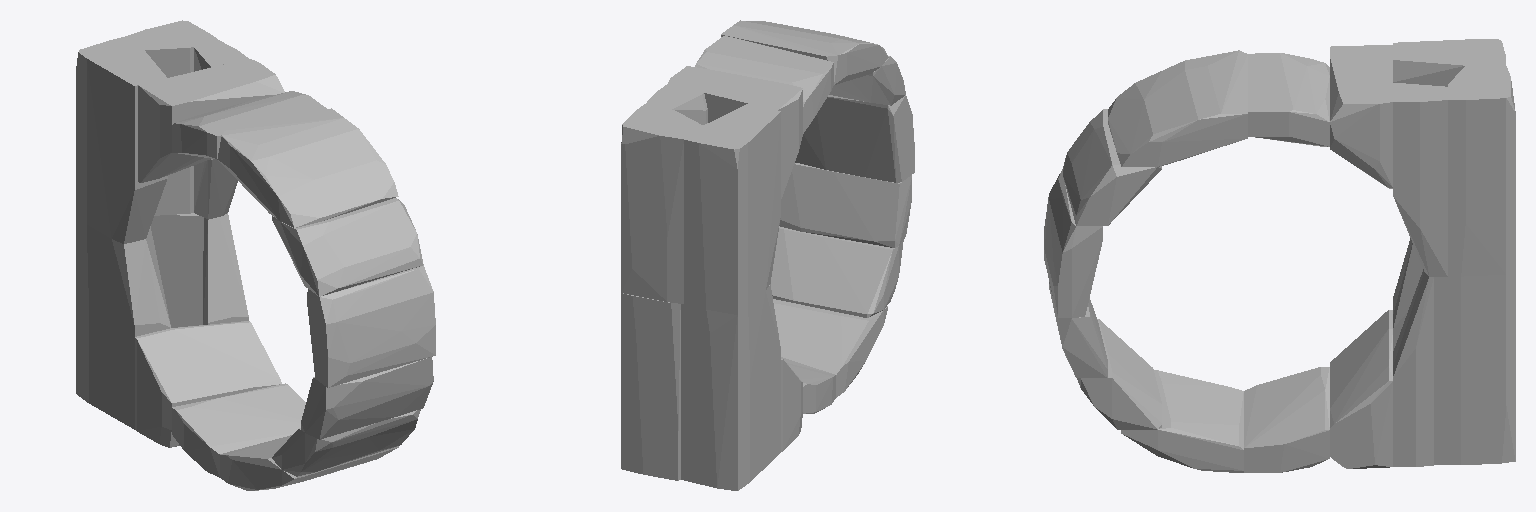
robot.urdf — root:
<robot name="root">
  <link name="link_thingiverse~ring_mount_2543826_convex_piece_0">
    <inertial>
      <origin rpy="0 0 0" xyz="0 0 0"/>
      <mass value="1.09E-02"/>
      <inertia ixx="9.58E-06" ixy="-3.31E-08" ixz="2.25E-07" iyy="9.99E-06" iyz="-8.15E-07" izz="7.94E-07"/>
    </inertial>
    <visual>
      <origin rpy="0 0 0" xyz="0 0 0"/>
      <geometry>
        <mesh filename="thingiverse~ring_mount_2543826_convex_piece_0.obj" scale="1.0000E+00 1.0000E+00 1.0000E+00"/>
      </geometry>
      <material name="">
        <color rgba="7.50E-01 7.50E-01 7.50E-01 1"/>
      </material>
    </visual>
    <collision>
      <origin rpy="0 0 0" xyz="0 0 0"/>
      <geometry>
        <mesh filename="thingiverse~ring_mount_2543826_convex_piece_0.obj" scale="1.0000E+00 1.0000E+00 1.0000E+00"/>
      </geometry>
    </collision>
  </link>
  <link name="link_thingiverse~ring_mount_2543826_convex_piece_1">
    <inertial>
      <origin rpy="0 0 0" xyz="0 0 0"/>
      <mass value="1.13E-02"/>
      <inertia ixx="9.87E-06" ixy="-2.12E-08" ixz="-1.22E-07" iyy="1.03E-05" iyz="8.04E-07" izz="7.99E-07"/>
    </inertial>
    <visual>
      <origin rpy="0 0 0" xyz="0 0 0"/>
      <geometry>
        <mesh filename="thingiverse~ring_mount_2543826_convex_piece_1.obj" scale="1.0000E+00 1.0000E+00 1.0000E+00"/>
      </geometry>
      <material name="">
        <color rgba="7.50E-01 7.50E-01 7.50E-01 1"/>
      </material>
    </visual>
    <collision>
      <origin rpy="0 0 0" xyz="0 0 0"/>
      <geometry>
        <mesh filename="thingiverse~ring_mount_2543826_convex_piece_1.obj" scale="1.0000E+00 1.0000E+00 1.0000E+00"/>
      </geometry>
    </collision>
  </link>
  <joint name="link_thingiverse~ring_mount_2543826_convex_piece_1_joint" type="fixed">
    <origin rpy="0 0 0" xyz="0 0 0"/>
    <parent link="link_thingiverse~ring_mount_2543826_convex_piece_0"/>
    <child link="link_thingiverse~ring_mount_2543826_convex_piece_1"/>
  </joint>
  <link name="link_thingiverse~ring_mount_2543826_convex_piece_2">
    <inertial>
      <origin rpy="0 0 0" xyz="0 0 0"/>
      <mass value="8.89E-03"/>
      <inertia ixx="1.70E-05" ixy="-7.57E-07" ixz="-7.78E-07" iyy="9.35E-06" iyz="8.23E-06" izz="8.81E-06"/>
    </inertial>
    <visual>
      <origin rpy="0 0 0" xyz="0 0 0"/>
      <geometry>
        <mesh filename="thingiverse~ring_mount_2543826_convex_piece_2.obj" scale="1.0000E+00 1.0000E+00 1.0000E+00"/>
      </geometry>
      <material name="">
        <color rgba="7.50E-01 7.50E-01 7.50E-01 1"/>
      </material>
    </visual>
    <collision>
      <origin rpy="0 0 0" xyz="0 0 0"/>
      <geometry>
        <mesh filename="thingiverse~ring_mount_2543826_convex_piece_2.obj" scale="1.0000E+00 1.0000E+00 1.0000E+00"/>
      </geometry>
    </collision>
  </link>
  <joint name="link_thingiverse~ring_mount_2543826_convex_piece_2_joint" type="fixed">
    <origin rpy="0 0 0" xyz="0 0 0"/>
    <parent link="link_thingiverse~ring_mount_2543826_convex_piece_1"/>
    <child link="link_thingiverse~ring_mount_2543826_convex_piece_2"/>
  </joint>
  <link name="link_thingiverse~ring_mount_2543826_convex_piece_3">
    <inertial>
      <origin rpy="0 0 0" xyz="0 0 0"/>
      <mass value="6.63E-03"/>
      <inertia ixx="8.07E-06" ixy="-8.87E-08" ixz="-2.40E-07" iyy="7.46E-06" iyz="2.47E-06" izz="1.34E-06"/>
    </inertial>
    <visual>
      <origin rpy="0 0 0" xyz="0 0 0"/>
      <geometry>
        <mesh filename="thingiverse~ring_mount_2543826_convex_piece_3.obj" scale="1.0000E+00 1.0000E+00 1.0000E+00"/>
      </geometry>
      <material name="">
        <color rgba="7.50E-01 7.50E-01 7.50E-01 1"/>
      </material>
    </visual>
    <collision>
      <origin rpy="0 0 0" xyz="0 0 0"/>
      <geometry>
        <mesh filename="thingiverse~ring_mount_2543826_convex_piece_3.obj" scale="1.0000E+00 1.0000E+00 1.0000E+00"/>
      </geometry>
    </collision>
  </link>
  <joint name="link_thingiverse~ring_mount_2543826_convex_piece_3_joint" type="fixed">
    <origin rpy="0 0 0" xyz="0 0 0"/>
    <parent link="link_thingiverse~ring_mount_2543826_convex_piece_2"/>
    <child link="link_thingiverse~ring_mount_2543826_convex_piece_3"/>
  </joint>
  <link name="link_thingiverse~ring_mount_2543826_convex_piece_4">
    <inertial>
      <origin rpy="0 0 0" xyz="0 0 0"/>
      <mass value="6.23E-03"/>
      <inertia ixx="1.48E-05" ixy="-1.17E-06" ixz="-5.87E-07" iyy="3.43E-06" iyz="5.81E-06" izz="1.23E-05"/>
    </inertial>
    <visual>
      <origin rpy="0 0 0" xyz="0 0 0"/>
      <geometry>
        <mesh filename="thingiverse~ring_mount_2543826_convex_piece_4.obj" scale="1.0000E+00 1.0000E+00 1.0000E+00"/>
      </geometry>
      <material name="">
        <color rgba="7.50E-01 7.50E-01 7.50E-01 1"/>
      </material>
    </visual>
    <collision>
      <origin rpy="0 0 0" xyz="0 0 0"/>
      <geometry>
        <mesh filename="thingiverse~ring_mount_2543826_convex_piece_4.obj" scale="1.0000E+00 1.0000E+00 1.0000E+00"/>
      </geometry>
    </collision>
  </link>
  <joint name="link_thingiverse~ring_mount_2543826_convex_piece_4_joint" type="fixed">
    <origin rpy="0 0 0" xyz="0 0 0"/>
    <parent link="link_thingiverse~ring_mount_2543826_convex_piece_3"/>
    <child link="link_thingiverse~ring_mount_2543826_convex_piece_4"/>
  </joint>
  <link name="link_thingiverse~ring_mount_2543826_convex_piece_5">
    <inertial>
      <origin rpy="0 0 0" xyz="0 0 0"/>
      <mass value="5.40E-03"/>
      <inertia ixx="1.41E-05" ixy="-1.39E-06" ixz="-2.78E-07" iyy="1.03E-06" iyz="2.66E-06" izz="1.39E-05"/>
    </inertial>
    <visual>
      <origin rpy="0 0 0" xyz="0 0 0"/>
      <geometry>
        <mesh filename="thingiverse~ring_mount_2543826_convex_piece_5.obj" scale="1.0000E+00 1.0000E+00 1.0000E+00"/>
      </geometry>
      <material name="">
        <color rgba="7.50E-01 7.50E-01 7.50E-01 1"/>
      </material>
    </visual>
    <collision>
      <origin rpy="0 0 0" xyz="0 0 0"/>
      <geometry>
        <mesh filename="thingiverse~ring_mount_2543826_convex_piece_5.obj" scale="1.0000E+00 1.0000E+00 1.0000E+00"/>
      </geometry>
    </collision>
  </link>
  <joint name="link_thingiverse~ring_mount_2543826_convex_piece_5_joint" type="fixed">
    <origin rpy="0 0 0" xyz="0 0 0"/>
    <parent link="link_thingiverse~ring_mount_2543826_convex_piece_4"/>
    <child link="link_thingiverse~ring_mount_2543826_convex_piece_5"/>
  </joint>
  <link name="link_thingiverse~ring_mount_2543826_convex_piece_6">
    <inertial>
      <origin rpy="0 0 0" xyz="0 0 0"/>
      <mass value="8.13E-03"/>
      <inertia ixx="2.13E-05" ixy="-2.13E-06" ixz="2.38E-07" iyy="1.11E-06" iyz="-2.25E-06" izz="2.15E-05"/>
    </inertial>
    <visual>
      <origin rpy="0 0 0" xyz="0 0 0"/>
      <geometry>
        <mesh filename="thingiverse~ring_mount_2543826_convex_piece_6.obj" scale="1.0000E+00 1.0000E+00 1.0000E+00"/>
      </geometry>
      <material name="">
        <color rgba="7.50E-01 7.50E-01 7.50E-01 1"/>
      </material>
    </visual>
    <collision>
      <origin rpy="0 0 0" xyz="0 0 0"/>
      <geometry>
        <mesh filename="thingiverse~ring_mount_2543826_convex_piece_6.obj" scale="1.0000E+00 1.0000E+00 1.0000E+00"/>
      </geometry>
    </collision>
  </link>
  <joint name="link_thingiverse~ring_mount_2543826_convex_piece_6_joint" type="fixed">
    <origin rpy="0 0 0" xyz="0 0 0"/>
    <parent link="link_thingiverse~ring_mount_2543826_convex_piece_5"/>
    <child link="link_thingiverse~ring_mount_2543826_convex_piece_6"/>
  </joint>
  <link name="link_thingiverse~ring_mount_2543826_convex_piece_7">
    <inertial>
      <origin rpy="0 0 0" xyz="0 0 0"/>
      <mass value="6.59E-03"/>
      <inertia ixx="1.57E-05" ixy="-1.30E-06" ixz="6.17E-07" iyy="3.35E-06" iyz="-5.92E-06" izz="1.33E-05"/>
    </inertial>
    <visual>
      <origin rpy="0 0 0" xyz="0 0 0"/>
      <geometry>
        <mesh filename="thingiverse~ring_mount_2543826_convex_piece_7.obj" scale="1.0000E+00 1.0000E+00 1.0000E+00"/>
      </geometry>
      <material name="">
        <color rgba="7.50E-01 7.50E-01 7.50E-01 1"/>
      </material>
    </visual>
    <collision>
      <origin rpy="0 0 0" xyz="0 0 0"/>
      <geometry>
        <mesh filename="thingiverse~ring_mount_2543826_convex_piece_7.obj" scale="1.0000E+00 1.0000E+00 1.0000E+00"/>
      </geometry>
    </collision>
  </link>
  <joint name="link_thingiverse~ring_mount_2543826_convex_piece_7_joint" type="fixed">
    <origin rpy="0 0 0" xyz="0 0 0"/>
    <parent link="link_thingiverse~ring_mount_2543826_convex_piece_6"/>
    <child link="link_thingiverse~ring_mount_2543826_convex_piece_7"/>
  </joint>
  <link name="link_thingiverse~ring_mount_2543826_convex_piece_8">
    <inertial>
      <origin rpy="0 0 0" xyz="0 0 0"/>
      <mass value="9.67E-03"/>
      <inertia ixx="1.82E-05" ixy="-8.16E-07" ixz="8.25E-07" iyy="9.94E-06" iyz="-8.77E-06" izz="9.49E-06"/>
    </inertial>
    <visual>
      <origin rpy="0 0 0" xyz="0 0 0"/>
      <geometry>
        <mesh filename="thingiverse~ring_mount_2543826_convex_piece_8.obj" scale="1.0000E+00 1.0000E+00 1.0000E+00"/>
      </geometry>
      <material name="">
        <color rgba="7.50E-01 7.50E-01 7.50E-01 1"/>
      </material>
    </visual>
    <collision>
      <origin rpy="0 0 0" xyz="0 0 0"/>
      <geometry>
        <mesh filename="thingiverse~ring_mount_2543826_convex_piece_8.obj" scale="1.0000E+00 1.0000E+00 1.0000E+00"/>
      </geometry>
    </collision>
  </link>
  <joint name="link_thingiverse~ring_mount_2543826_convex_piece_8_joint" type="fixed">
    <origin rpy="0 0 0" xyz="0 0 0"/>
    <parent link="link_thingiverse~ring_mount_2543826_convex_piece_7"/>
    <child link="link_thingiverse~ring_mount_2543826_convex_piece_8"/>
  </joint>
  <link name="link_thingiverse~ring_mount_2543826_convex_piece_9">
    <inertial>
      <origin rpy="0 0 0" xyz="0 0 0"/>
      <mass value="6.31E-03"/>
      <inertia ixx="7.39E-06" ixy="-8.13E-08" ixz="2.23E-07" iyy="6.89E-06" iyz="-2.22E-06" izz="1.20E-06"/>
    </inertial>
    <visual>
      <origin rpy="0 0 0" xyz="0 0 0"/>
      <geometry>
        <mesh filename="thingiverse~ring_mount_2543826_convex_piece_9.obj" scale="1.0000E+00 1.0000E+00 1.0000E+00"/>
      </geometry>
      <material name="">
        <color rgba="7.50E-01 7.50E-01 7.50E-01 1"/>
      </material>
    </visual>
    <collision>
      <origin rpy="0 0 0" xyz="0 0 0"/>
      <geometry>
        <mesh filename="thingiverse~ring_mount_2543826_convex_piece_9.obj" scale="1.0000E+00 1.0000E+00 1.0000E+00"/>
      </geometry>
    </collision>
  </link>
  <joint name="link_thingiverse~ring_mount_2543826_convex_piece_9_joint" type="fixed">
    <origin rpy="0 0 0" xyz="0 0 0"/>
    <parent link="link_thingiverse~ring_mount_2543826_convex_piece_8"/>
    <child link="link_thingiverse~ring_mount_2543826_convex_piece_9"/>
  </joint>
  <link name="link_thingiverse~ring_mount_2543826_convex_piece_10">
    <inertial>
      <origin rpy="0 0 0" xyz="0 0 0"/>
      <mass value="2.07E-02"/>
      <inertia ixx="1.76E-05" ixy="-3.68E-06" ixz="3.55E-06" iyy="1.14E-05" iyz="-7.14E-06" izz="1.02E-05"/>
    </inertial>
    <visual>
      <origin rpy="0 0 0" xyz="0 0 0"/>
      <geometry>
        <mesh filename="thingiverse~ring_mount_2543826_convex_piece_10.obj" scale="1.0000E+00 1.0000E+00 1.0000E+00"/>
      </geometry>
      <material name="">
        <color rgba="7.50E-01 7.50E-01 7.50E-01 1"/>
      </material>
    </visual>
    <collision>
      <origin rpy="0 0 0" xyz="0 0 0"/>
      <geometry>
        <mesh filename="thingiverse~ring_mount_2543826_convex_piece_10.obj" scale="1.0000E+00 1.0000E+00 1.0000E+00"/>
      </geometry>
    </collision>
  </link>
  <joint name="link_thingiverse~ring_mount_2543826_convex_piece_10_joint" type="fixed">
    <origin rpy="0 0 0" xyz="0 0 0"/>
    <parent link="link_thingiverse~ring_mount_2543826_convex_piece_9"/>
    <child link="link_thingiverse~ring_mount_2543826_convex_piece_10"/>
  </joint>
  <link name="link_thingiverse~ring_mount_2543826_convex_piece_11">
    <inertial>
      <origin rpy="0 0 0" xyz="0 0 0"/>
      <mass value="1.83E-02"/>
      <inertia ixx="1.60E-05" ixy="-3.32E-06" ixz="-3.45E-06" iyy="1.07E-05" iyz="6.69E-06" izz="8.97E-06"/>
    </inertial>
    <visual>
      <origin rpy="0 0 0" xyz="0 0 0"/>
      <geometry>
        <mesh filename="thingiverse~ring_mount_2543826_convex_piece_11.obj" scale="1.0000E+00 1.0000E+00 1.0000E+00"/>
      </geometry>
      <material name="">
        <color rgba="7.50E-01 7.50E-01 7.50E-01 1"/>
      </material>
    </visual>
    <collision>
      <origin rpy="0 0 0" xyz="0 0 0"/>
      <geometry>
        <mesh filename="thingiverse~ring_mount_2543826_convex_piece_11.obj" scale="1.0000E+00 1.0000E+00 1.0000E+00"/>
      </geometry>
    </collision>
  </link>
  <joint name="link_thingiverse~ring_mount_2543826_convex_piece_11_joint" type="fixed">
    <origin rpy="0 0 0" xyz="0 0 0"/>
    <parent link="link_thingiverse~ring_mount_2543826_convex_piece_10"/>
    <child link="link_thingiverse~ring_mount_2543826_convex_piece_11"/>
  </joint>
  <link name="link_thingiverse~ring_mount_2543826_convex_piece_12">
    <inertial>
      <origin rpy="0 0 0" xyz="0 0 0"/>
      <mass value="4.25E-03"/>
      <inertia ixx="2.91E-06" ixy="3.79E-07" ixz="-6.97E-07" iyy="2.60E-06" iyz="-1.02E-06" izz="8.52E-07"/>
    </inertial>
    <visual>
      <origin rpy="0 0 0" xyz="0 0 0"/>
      <geometry>
        <mesh filename="thingiverse~ring_mount_2543826_convex_piece_12.obj" scale="1.0000E+00 1.0000E+00 1.0000E+00"/>
      </geometry>
      <material name="">
        <color rgba="7.50E-01 7.50E-01 7.50E-01 1"/>
      </material>
    </visual>
    <collision>
      <origin rpy="0 0 0" xyz="0 0 0"/>
      <geometry>
        <mesh filename="thingiverse~ring_mount_2543826_convex_piece_12.obj" scale="1.0000E+00 1.0000E+00 1.0000E+00"/>
      </geometry>
    </collision>
  </link>
  <joint name="link_thingiverse~ring_mount_2543826_convex_piece_12_joint" type="fixed">
    <origin rpy="0 0 0" xyz="0 0 0"/>
    <parent link="link_thingiverse~ring_mount_2543826_convex_piece_11"/>
    <child link="link_thingiverse~ring_mount_2543826_convex_piece_12"/>
  </joint>
  <link name="link_thingiverse~ring_mount_2543826_convex_piece_13">
    <inertial>
      <origin rpy="0 0 0" xyz="0 0 0"/>
      <mass value="1.64E-02"/>
      <inertia ixx="1.61E-05" ixy="1.64E-06" ixz="-1.30E-06" iyy="7.64E-06" iyz="-6.71E-06" izz="9.61E-06"/>
    </inertial>
    <visual>
      <origin rpy="0 0 0" xyz="0 0 0"/>
      <geometry>
        <mesh filename="thingiverse~ring_mount_2543826_convex_piece_13.obj" scale="1.0000E+00 1.0000E+00 1.0000E+00"/>
      </geometry>
      <material name="">
        <color rgba="7.50E-01 7.50E-01 7.50E-01 1"/>
      </material>
    </visual>
    <collision>
      <origin rpy="0 0 0" xyz="0 0 0"/>
      <geometry>
        <mesh filename="thingiverse~ring_mount_2543826_convex_piece_13.obj" scale="1.0000E+00 1.0000E+00 1.0000E+00"/>
      </geometry>
    </collision>
  </link>
  <joint name="link_thingiverse~ring_mount_2543826_convex_piece_13_joint" type="fixed">
    <origin rpy="0 0 0" xyz="0 0 0"/>
    <parent link="link_thingiverse~ring_mount_2543826_convex_piece_12"/>
    <child link="link_thingiverse~ring_mount_2543826_convex_piece_13"/>
  </joint>
  <link name="link_thingiverse~ring_mount_2543826_convex_piece_14">
    <inertial>
      <origin rpy="0 0 0" xyz="0 0 0"/>
      <mass value="5.79E-03"/>
      <inertia ixx="4.15E-06" ixy="5.74E-07" ixz="9.52E-07" iyy="3.53E-06" iyz="1.55E-06" izz="1.36E-06"/>
    </inertial>
    <visual>
      <origin rpy="0 0 0" xyz="0 0 0"/>
      <geometry>
        <mesh filename="thingiverse~ring_mount_2543826_convex_piece_14.obj" scale="1.0000E+00 1.0000E+00 1.0000E+00"/>
      </geometry>
      <material name="">
        <color rgba="7.50E-01 7.50E-01 7.50E-01 1"/>
      </material>
    </visual>
    <collision>
      <origin rpy="0 0 0" xyz="0 0 0"/>
      <geometry>
        <mesh filename="thingiverse~ring_mount_2543826_convex_piece_14.obj" scale="1.0000E+00 1.0000E+00 1.0000E+00"/>
      </geometry>
    </collision>
  </link>
  <joint name="link_thingiverse~ring_mount_2543826_convex_piece_14_joint" type="fixed">
    <origin rpy="0 0 0" xyz="0 0 0"/>
    <parent link="link_thingiverse~ring_mount_2543826_convex_piece_13"/>
    <child link="link_thingiverse~ring_mount_2543826_convex_piece_14"/>
  </joint>
  <link name="link_thingiverse~ring_mount_2543826_convex_piece_15">
    <inertial>
      <origin rpy="0 0 0" xyz="0 0 0"/>
      <mass value="1.42E-02"/>
      <inertia ixx="1.49E-05" ixy="1.29E-06" ixz="1.04E-06" iyy="7.06E-06" iyz="6.44E-06" izz="8.68E-06"/>
    </inertial>
    <visual>
      <origin rpy="0 0 0" xyz="0 0 0"/>
      <geometry>
        <mesh filename="thingiverse~ring_mount_2543826_convex_piece_15.obj" scale="1.0000E+00 1.0000E+00 1.0000E+00"/>
      </geometry>
      <material name="">
        <color rgba="7.50E-01 7.50E-01 7.50E-01 1"/>
      </material>
    </visual>
    <collision>
      <origin rpy="0 0 0" xyz="0 0 0"/>
      <geometry>
        <mesh filename="thingiverse~ring_mount_2543826_convex_piece_15.obj" scale="1.0000E+00 1.0000E+00 1.0000E+00"/>
      </geometry>
    </collision>
  </link>
  <joint name="link_thingiverse~ring_mount_2543826_convex_piece_15_joint" type="fixed">
    <origin rpy="0 0 0" xyz="0 0 0"/>
    <parent link="link_thingiverse~ring_mount_2543826_convex_piece_14"/>
    <child link="link_thingiverse~ring_mount_2543826_convex_piece_15"/>
  </joint>
</robot>

--- What the picture shows (computed from the rendered views, not written in the file) ---
The picture shows the robot from 3 angles, left to right: view 1: azimuth 30°, elevation 25°; view 2: azimuth 150°, elevation 25°; view 3: azimuth 270°, elevation 25°; orthographic projection.
Model root with 16 links and 15 joints (15 fixed), rooted at link_thingiverse~ring_mount_2543826_convex_piece_0, posed every joint at zero.
Links seen in each view (by area): view 1: link_thingiverse~ring_mount_2543826_convex_piece_8, link_thingiverse~ring_mount_2543826_convex_piece_11, link_thingiverse~ring_mount_2543826_convex_piece_10, link_thingiverse~ring_mount_2543826_convex_piece_6, link_thingiverse~ring_mount_2543826_convex_piece_0, link_thingiverse~ring_mount_2543826_convex_piece_7, link_thingiverse~ring_mount_2543826_convex_piece_1, link_thingiverse~ring_mount_2543826_convex_piece_3, link_thingiverse~ring_mount_2543826_convex_piece_5, link_thingiverse~ring_mount_2543826_convex_piece_13, link_thingiverse~ring_mount_2543826_convex_piece_4, link_thingiverse~ring_mount_2543826_convex_piece_9 (+4 smaller); view 2: link_thingiverse~ring_mount_2543826_convex_piece_11, link_thingiverse~ring_mount_2543826_convex_piece_10, link_thingiverse~ring_mount_2543826_convex_piece_15, link_thingiverse~ring_mount_2543826_convex_piece_13, link_thingiverse~ring_mount_2543826_convex_piece_4, link_thingiverse~ring_mount_2543826_convex_piece_5, link_thingiverse~ring_mount_2543826_convex_piece_6, link_thingiverse~ring_mount_2543826_convex_piece_2, link_thingiverse~ring_mount_2543826_convex_piece_1, link_thingiverse~ring_mount_2543826_convex_piece_9, link_thingiverse~ring_mount_2543826_convex_piece_8, link_thingiverse~ring_mount_2543826_convex_piece_7 (+3 smaller); view 3: link_thingiverse~ring_mount_2543826_convex_piece_13, link_thingiverse~ring_mount_2543826_convex_piece_15, link_thingiverse~ring_mount_2543826_convex_piece_8, link_thingiverse~ring_mount_2543826_convex_piece_14, link_thingiverse~ring_mount_2543826_convex_piece_0, link_thingiverse~ring_mount_2543826_convex_piece_3, link_thingiverse~ring_mount_2543826_convex_piece_2, link_thingiverse~ring_mount_2543826_convex_piece_1, link_thingiverse~ring_mount_2543826_convex_piece_9, link_thingiverse~ring_mount_2543826_convex_piece_12, link_thingiverse~ring_mount_2543826_convex_piece_7, link_thingiverse~ring_mount_2543826_convex_piece_6 (+4 smaller).
Boxes of the visible links, bbox=[...] form: link_thingiverse~ring_mount_2543826_convex_piece_8: bbox=[217, 108, 398, 227]; link_thingiverse~ring_mount_2543826_convex_piece_11: bbox=[76, 36, 167, 243]; link_thingiverse~ring_mount_2543826_convex_piece_10: bbox=[76, 217, 170, 429]; link_thingiverse~ring_mount_2543826_convex_piece_6: bbox=[307, 265, 435, 387]; link_thingiverse~ring_mount_2543826_convex_piece_0: bbox=[135, 321, 281, 447]; link_thingiverse~ring_mount_2543826_convex_piece_7: bbox=[272, 198, 423, 296]; link_thingiverse~ring_mount_2543826_convex_piece_1: bbox=[138, 58, 284, 182]; link_thingiverse~ring_mount_2543826_convex_piece_3: bbox=[172, 383, 305, 477]; link_thingiverse~ring_mount_2543826_convex_piece_5: bbox=[301, 357, 433, 439]; link_thingiverse~ring_mount_2543826_convex_piece_13: bbox=[151, 213, 203, 327]; link_thingiverse~ring_mount_2543826_convex_piece_4: bbox=[272, 409, 420, 476]; link_thingiverse~ring_mount_2543826_convex_piece_9: bbox=[172, 91, 326, 158]; link_thingiverse~ring_mount_2543826_convex_piece_11: bbox=[684, 104, 780, 314]; link_thingiverse~ring_mount_2543826_convex_piece_10: bbox=[681, 284, 780, 490]; link_thingiverse~ring_mount_2543826_convex_piece_15: bbox=[621, 103, 702, 303]; link_thingiverse~ring_mount_2543826_convex_piece_13: bbox=[621, 293, 680, 480]; link_thingiverse~ring_mount_2543826_convex_piece_4: bbox=[771, 226, 903, 317]; link_thingiverse~ring_mount_2543826_convex_piece_5: bbox=[779, 163, 911, 247]; link_thingiverse~ring_mount_2543826_convex_piece_6: bbox=[795, 95, 914, 182]; link_thingiverse~ring_mount_2543826_convex_piece_2: bbox=[773, 299, 887, 397]; link_thingiverse~ring_mount_2543826_convex_piece_1: bbox=[668, 66, 802, 198]; link_thingiverse~ring_mount_2543826_convex_piece_9: bbox=[695, 36, 833, 133]; link_thingiverse~ring_mount_2543826_convex_piece_8: bbox=[721, 20, 888, 84]; link_thingiverse~ring_mount_2543826_convex_piece_7: bbox=[829, 56, 905, 105]; link_thingiverse~ring_mount_2543826_convex_piece_13: bbox=[1434, 273, 1515, 464]; link_thingiverse~ring_mount_2543826_convex_piece_15: bbox=[1448, 66, 1515, 276]; link_thingiverse~ring_mount_2543826_convex_piece_8: bbox=[1108, 50, 1247, 166]; link_thingiverse~ring_mount_2543826_convex_piece_14: bbox=[1393, 83, 1447, 276]; link_thingiverse~ring_mount_2543826_convex_piece_0: bbox=[1330, 310, 1392, 468]; link_thingiverse~ring_mount_2543826_convex_piece_3: bbox=[1244, 367, 1329, 472]; link_thingiverse~ring_mount_2543826_convex_piece_2: bbox=[1121, 370, 1243, 472]; link_thingiverse~ring_mount_2543826_convex_piece_1: bbox=[1330, 45, 1392, 188]; link_thingiverse~ring_mount_2543826_convex_piece_9: bbox=[1248, 53, 1329, 146]; link_thingiverse~ring_mount_2543826_convex_piece_12: bbox=[1393, 269, 1433, 466]; link_thingiverse~ring_mount_2543826_convex_piece_7: bbox=[1063, 109, 1161, 225]; link_thingiverse~ring_mount_2543826_convex_piece_6: bbox=[1044, 169, 1102, 317].
Bounding box of the posed robot: 0.0338 × 0.0857 × 0.0733 m (x, y, z).
Meshes: 16 distinct files referenced, 16 mesh visuals loaded (16 OBJ).
